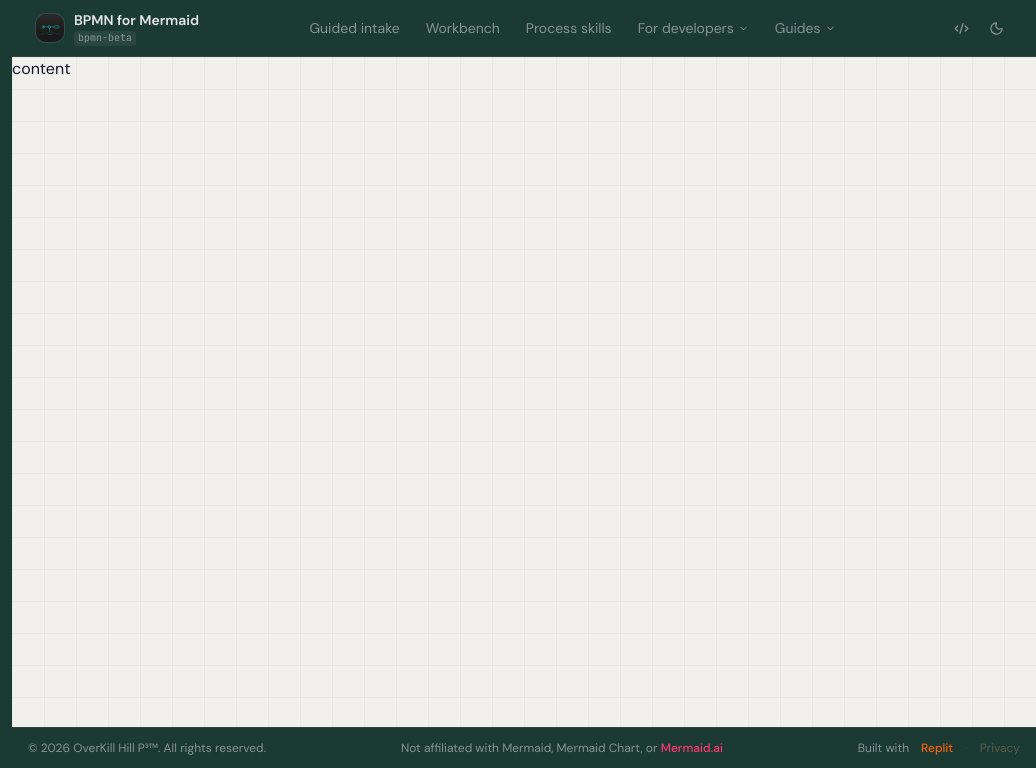
Test case: NavDropdown — keyboard navigation › Plugin ▾ dropdown › Escape closes the panel and returns focus to the trigger
Click the button "For developers": click(693, 28) [626, 12, 761, 44]
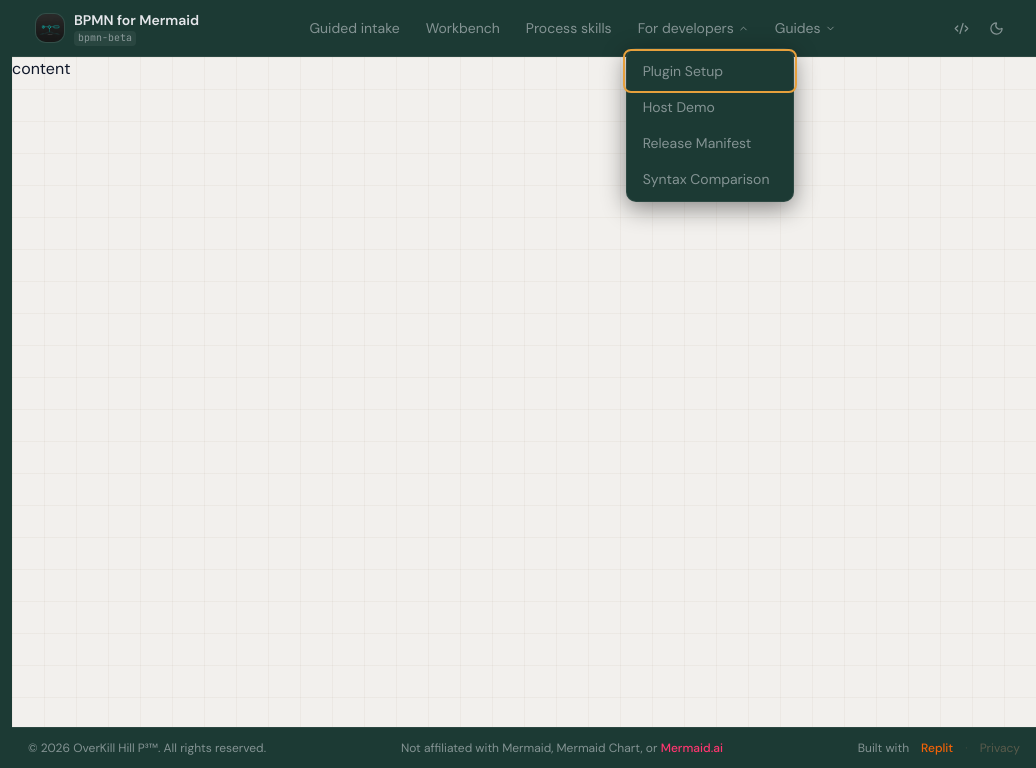
Press Escape in the menu item "Plugin Setup", box [643, 62, 723, 80]
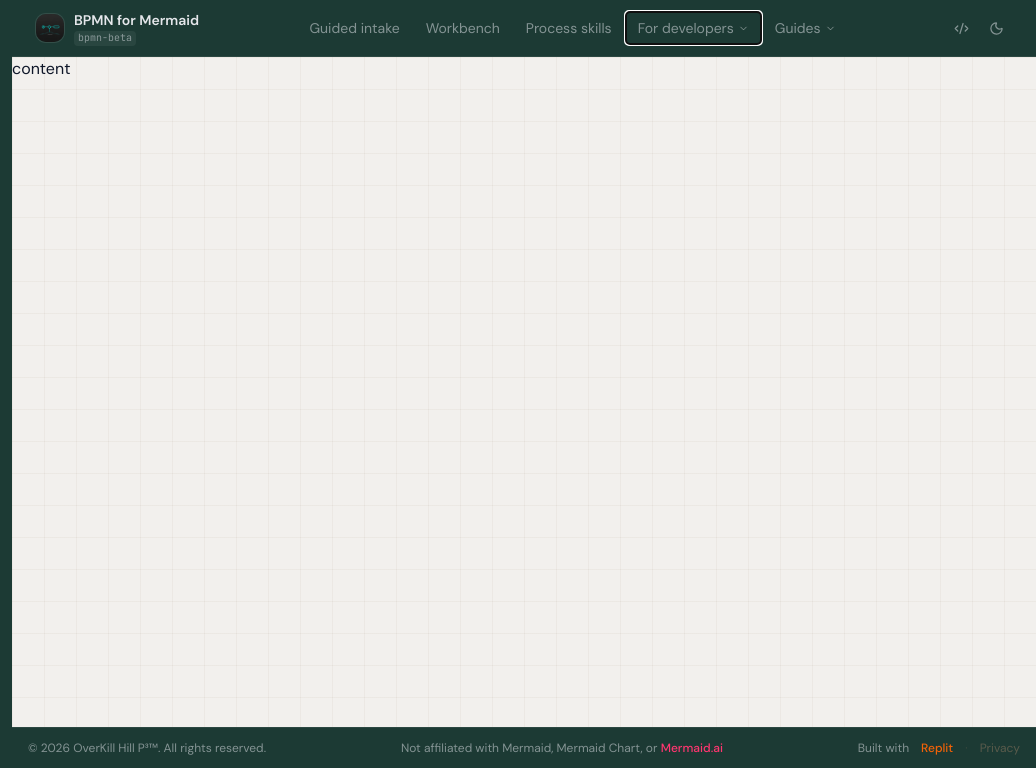
Expected: the menu is gone
